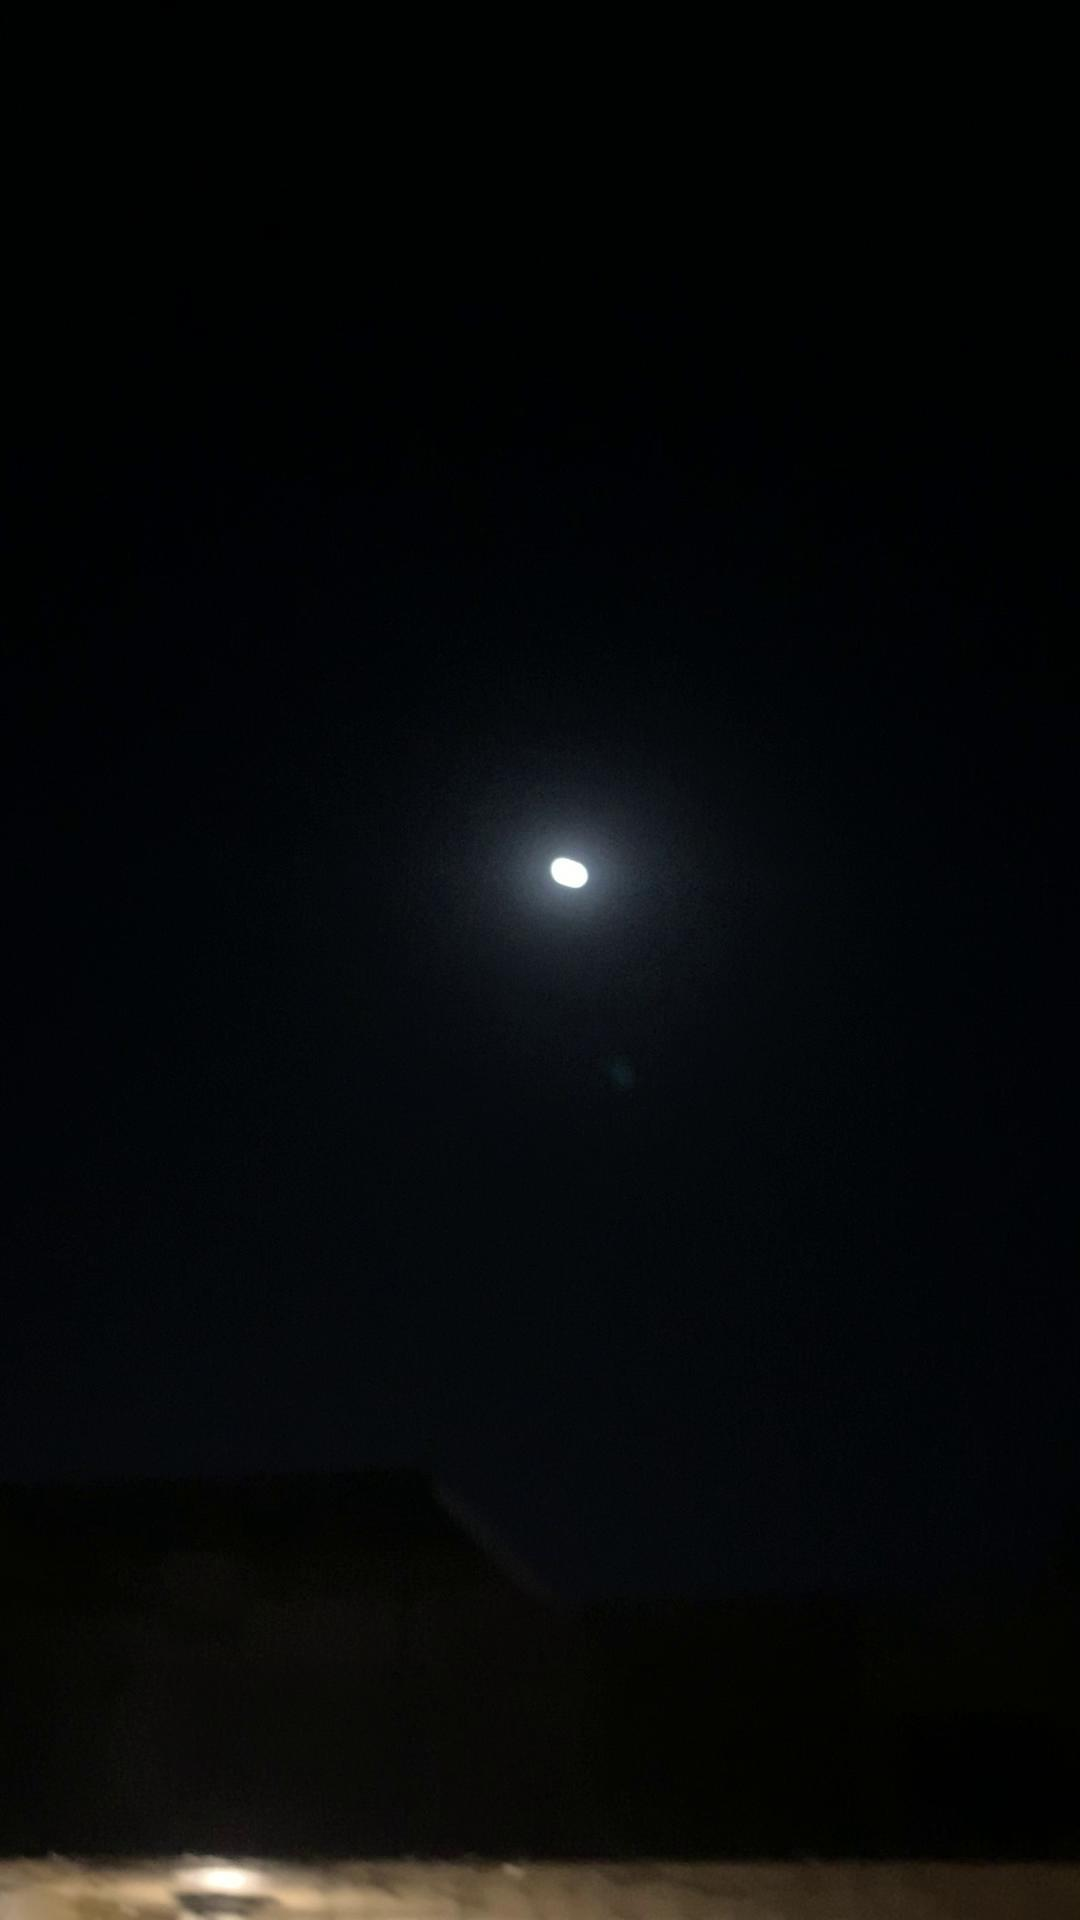moon: (526, 829, 613, 924)
